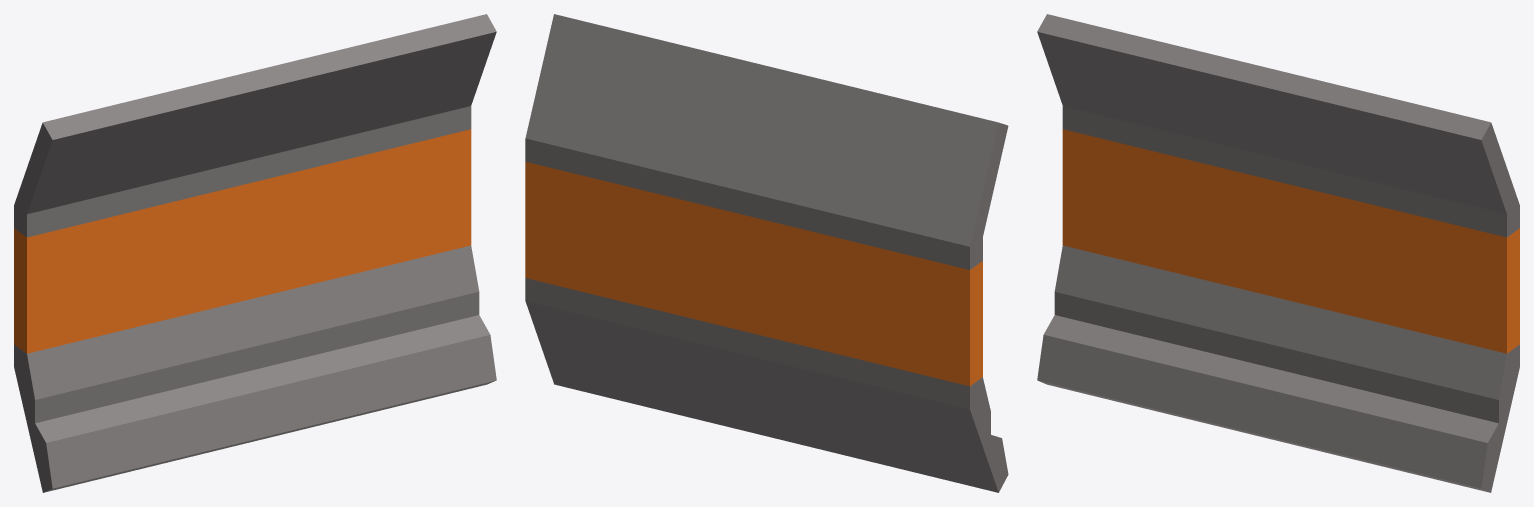
The model's file is scifi-wall-corridor-stripe.glb.
3 renders of one model, left to right at view 1: azimuth 30°, elevation 25°; view 2: azimuth 150°, elevation 25°; view 3: azimuth 330°, elevation 25°, orthographic.
Parts seen in each view (by area): view 1: scifi-wall-corridor-stripe; view 2: scifi-wall-corridor-stripe; view 3: scifi-wall-corridor-stripe.
Boxes of the visible parts, x1=… form: scifi-wall-corridor-stripe: x1=14, y1=14, x2=496, y2=492; scifi-wall-corridor-stripe: x1=525, y1=14, x2=1008, y2=492; scifi-wall-corridor-stripe: x1=1037, y1=14, x2=1519, y2=492.
Bounding box in the file's own units: 4 × 3.19 × 0.6.
1 material, 1 textured.
